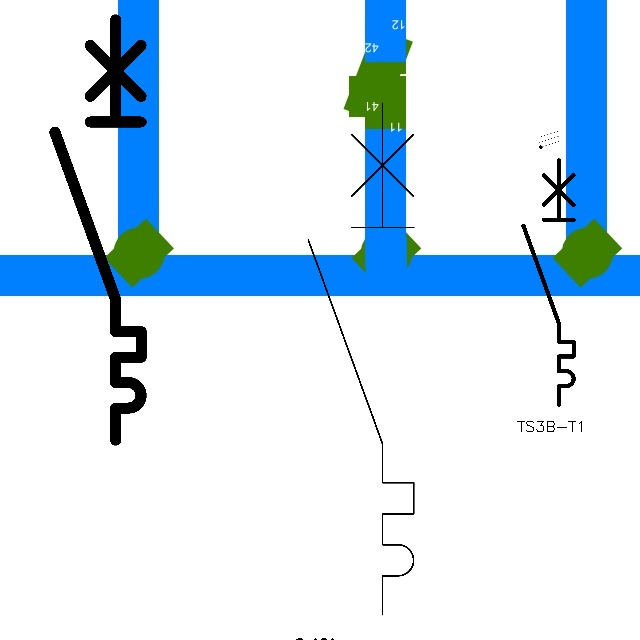interruptor_termomagnetico: (295, 90, 427, 628), (44, 9, 152, 451), (517, 154, 580, 411)
